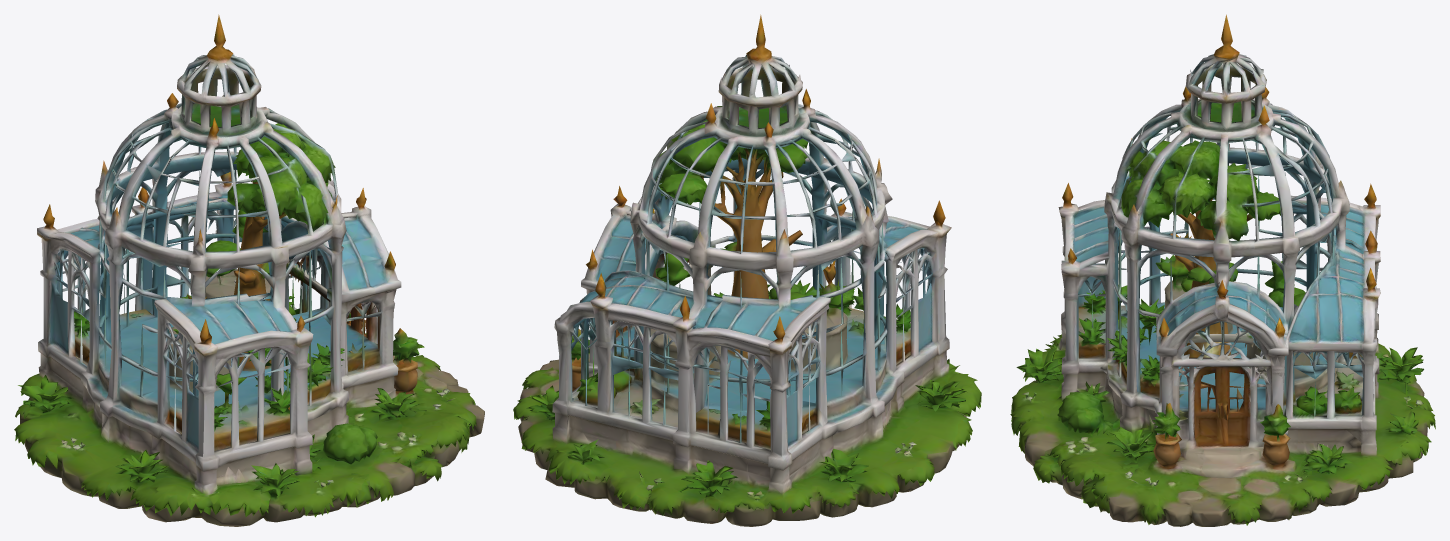
Rendered from biology.glb.
The picture shows the model from 3 angles, left to right: view 1: azimuth 30°, elevation 25°; view 2: azimuth 150°, elevation 25°; view 3: azimuth 270°, elevation 25°; orthographic projection. The views are drawn at different scales.
Parts seen in each view (by area): view 1: tripo_node_90abcfa6-cee8-45fb-9ebe-5acd6c996075; view 2: tripo_node_90abcfa6-cee8-45fb-9ebe-5acd6c996075; view 3: tripo_node_90abcfa6-cee8-45fb-9ebe-5acd6c996075.
Boxes of the visible parts, x1,y1,x2,y2 form: tripo_node_90abcfa6-cee8-45fb-9ebe-5acd6c996075: (14, 14, 484, 526); tripo_node_90abcfa6-cee8-45fb-9ebe-5acd6c996075: (513, 14, 981, 526); tripo_node_90abcfa6-cee8-45fb-9ebe-5acd6c996075: (1010, 14, 1435, 526).
Size of the model in its own units: 0.9779 by 0.9912 by 0.926.
1 material, 1 textured.
